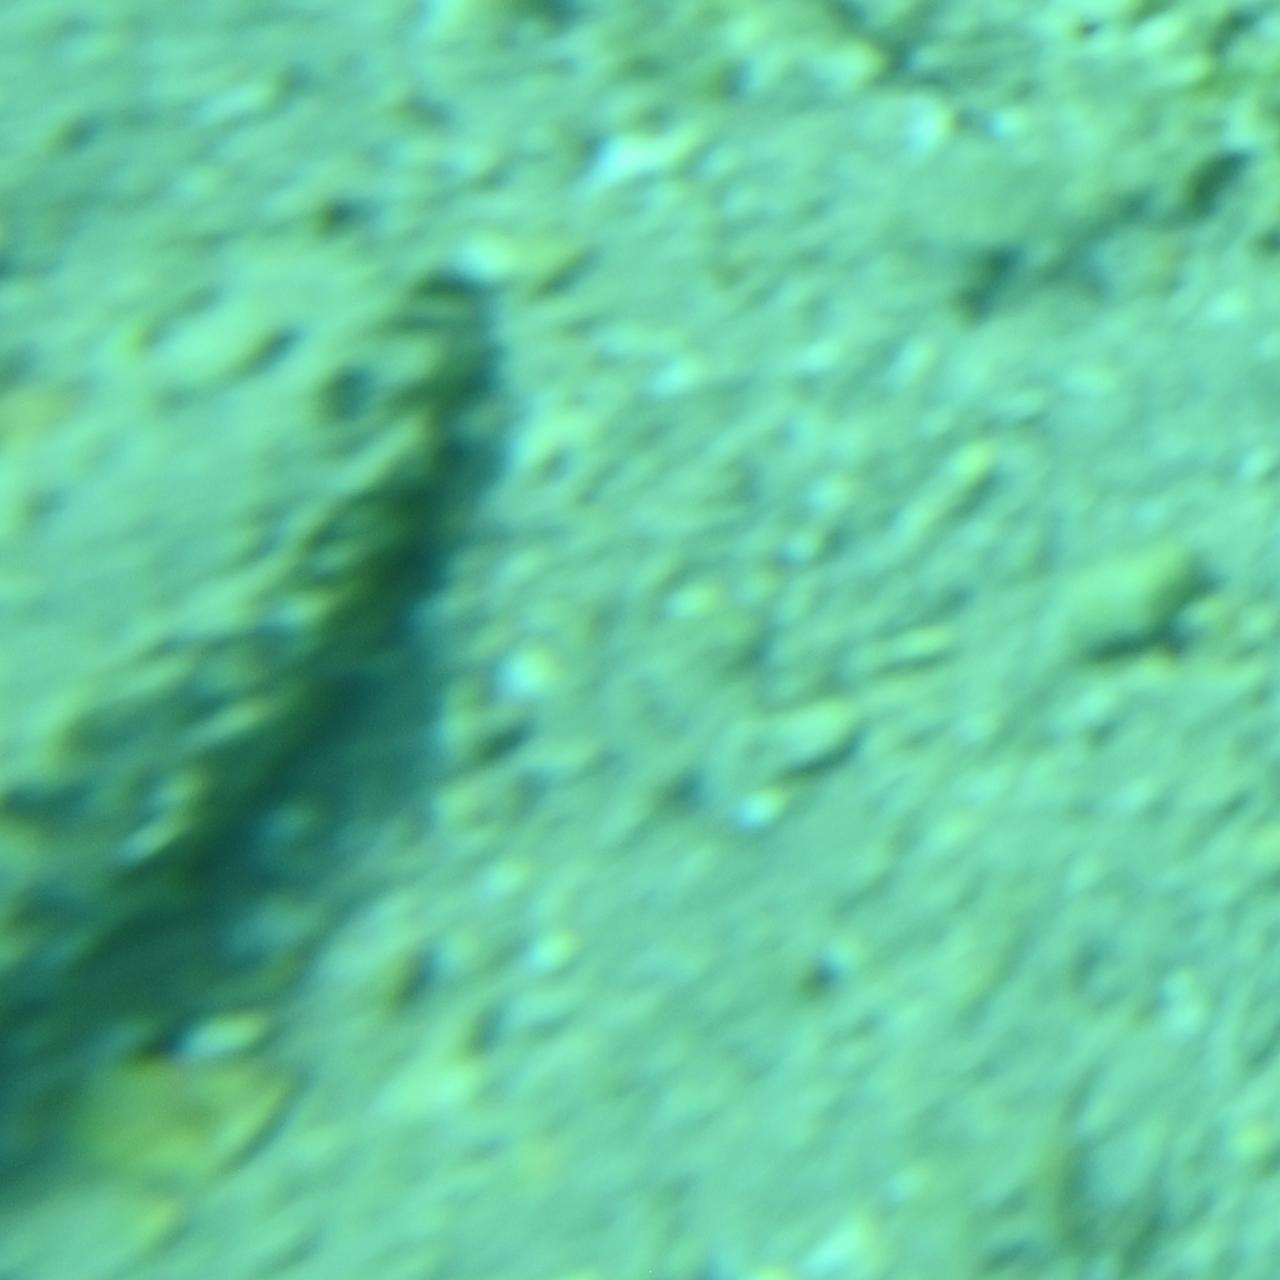Holothuria tubulosa: (0, 251, 490, 1029)
